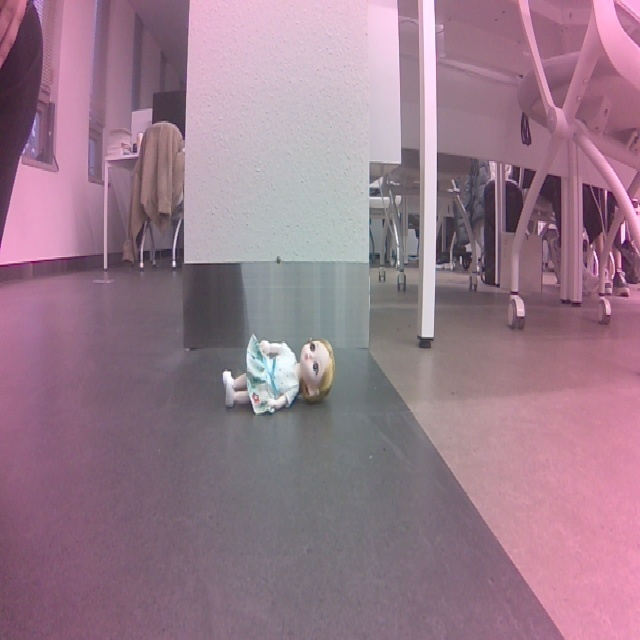장애물: (216, 336, 338, 424)
